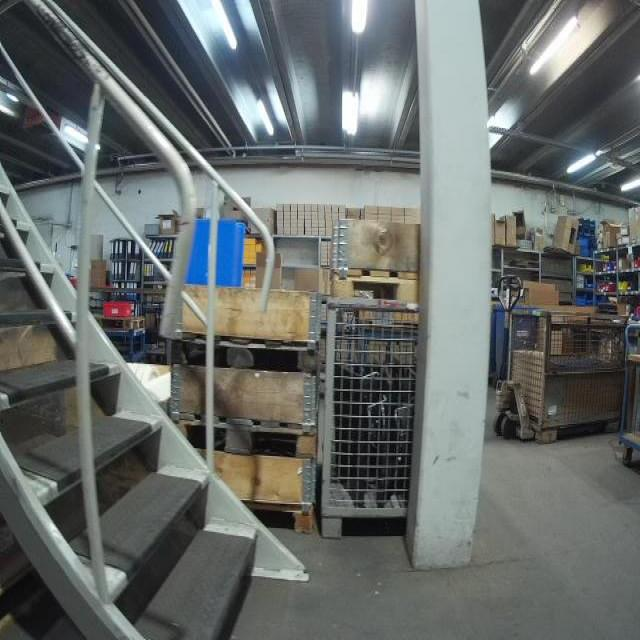pallet: (170, 325, 320, 377), (169, 410, 319, 461), (329, 267, 414, 299)
pallet_truck: (491, 271, 534, 443), (104, 231, 144, 317)
small_load_carrier: (180, 217, 246, 290), (102, 296, 134, 320)
stillage: (318, 300, 424, 535), (503, 301, 631, 446)
